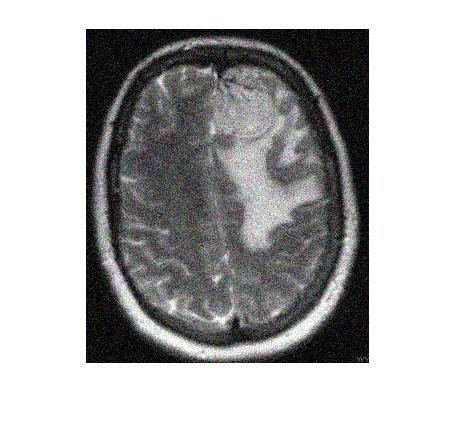Brain_Cancer: (213, 82, 280, 140)
